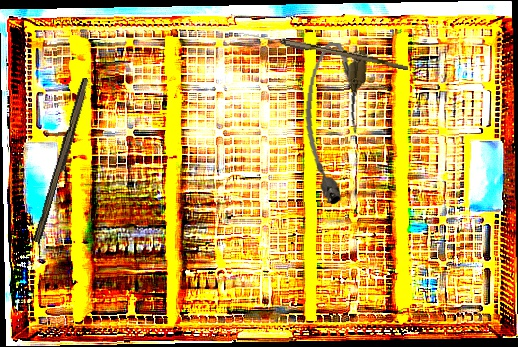Cannula: (294, 40, 370, 206)
Scalpel Handle: (32, 76, 93, 245)
Surgical Spoon: (237, 29, 410, 71)
